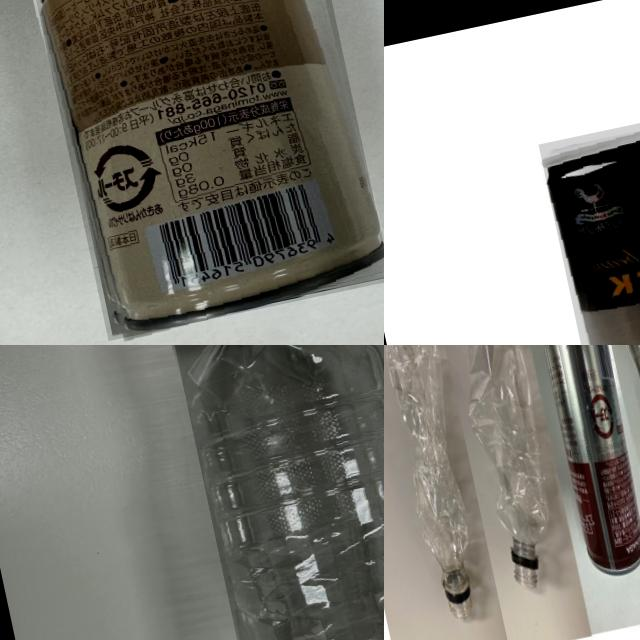Can: (23, 0, 384, 339), (537, 89, 640, 345), (535, 345, 640, 584)
Transparent Plastic Bottle: (152, 345, 384, 640), (442, 345, 570, 597), (384, 345, 494, 630)
